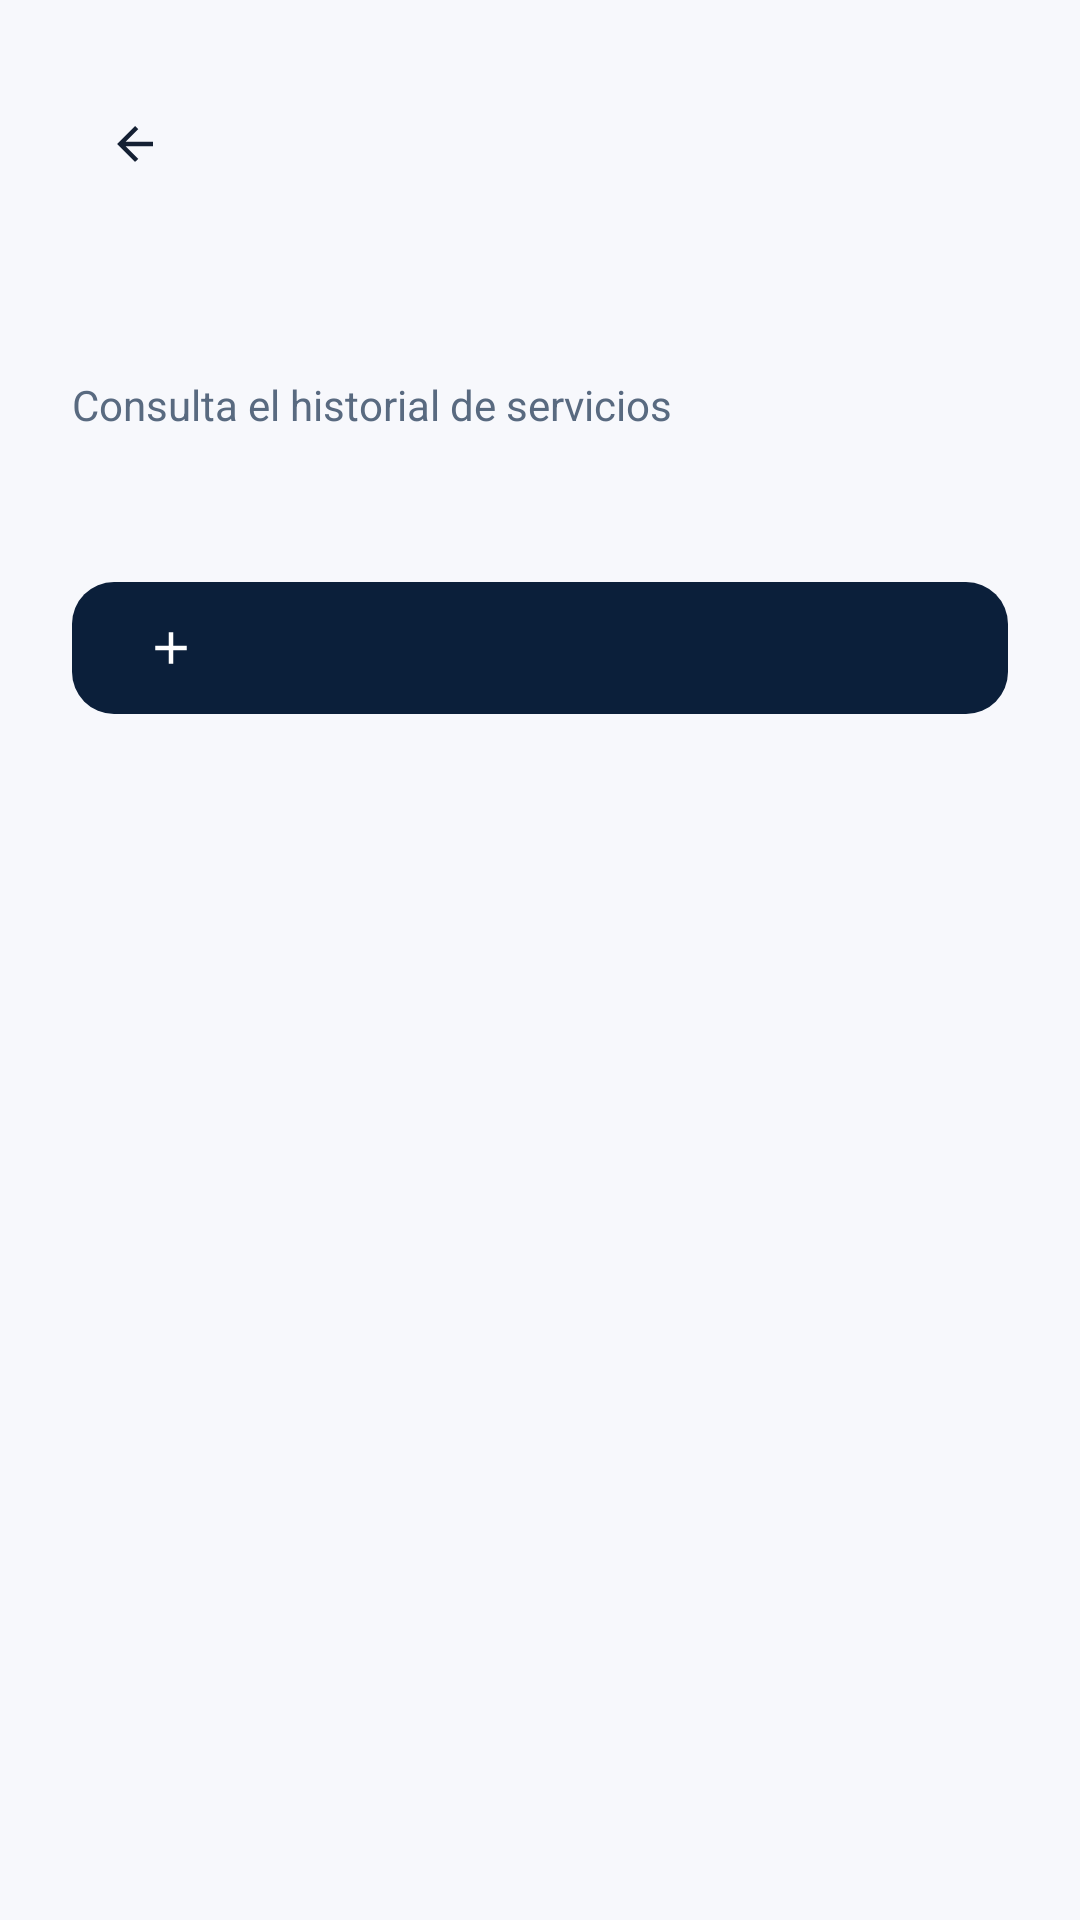

Where to tap for icons on this 1080 × 1920 app screen, as point (x, y):
Volver: point (135, 144)
